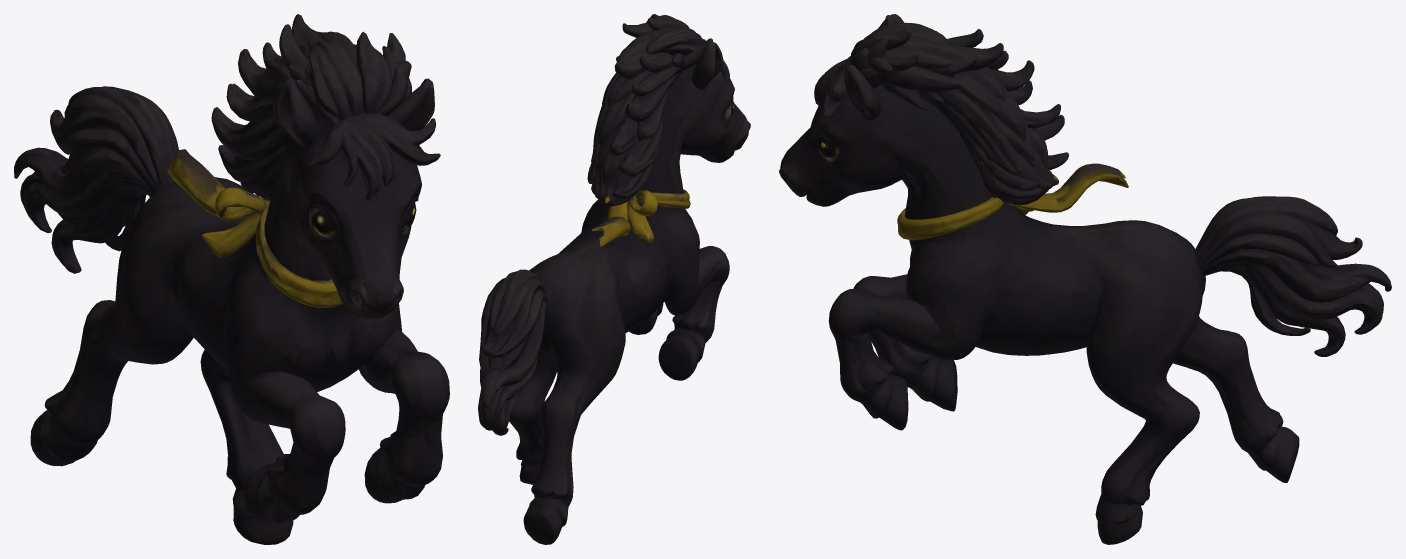
Rendered from colt_dark.glb.
The picture shows the model from 3 angles, left to right: view 1: azimuth 30°, elevation 25°; view 2: azimuth 150°, elevation 25°; view 3: azimuth 270°, elevation 25°; orthographic projection. The views are drawn at different scales.
Bounding box in the file's own units: 0.4823 × 1.71 × 1.9.
1 material, 1 textured.
